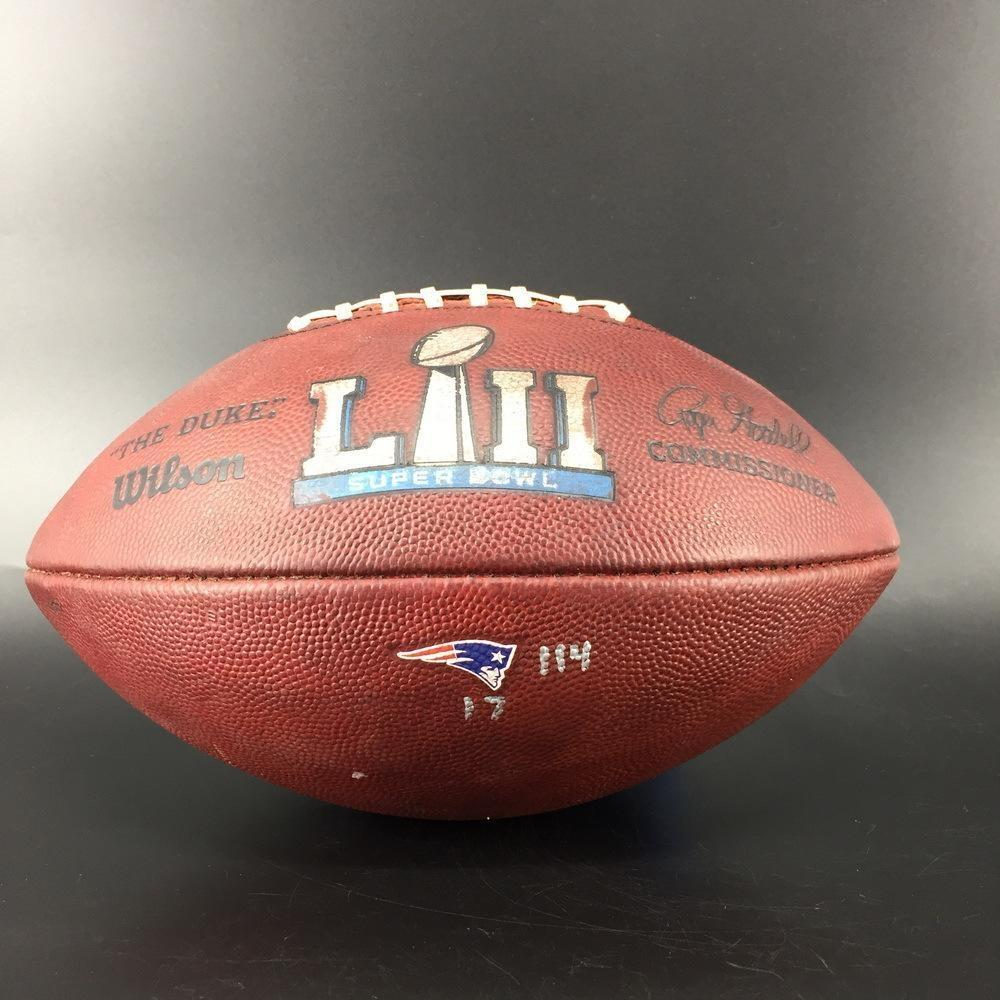Sports-Ball: (28, 286, 899, 818)
